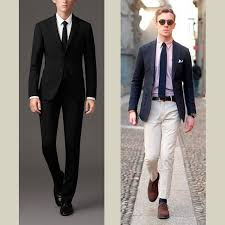F_M_suit jacket: (26, 14, 100, 99), (128, 40, 198, 123)
F_dress pants: (38, 94, 84, 204)
F_shirt: (155, 37, 172, 99)
F_tie: (160, 44, 168, 99), (60, 20, 70, 45)
